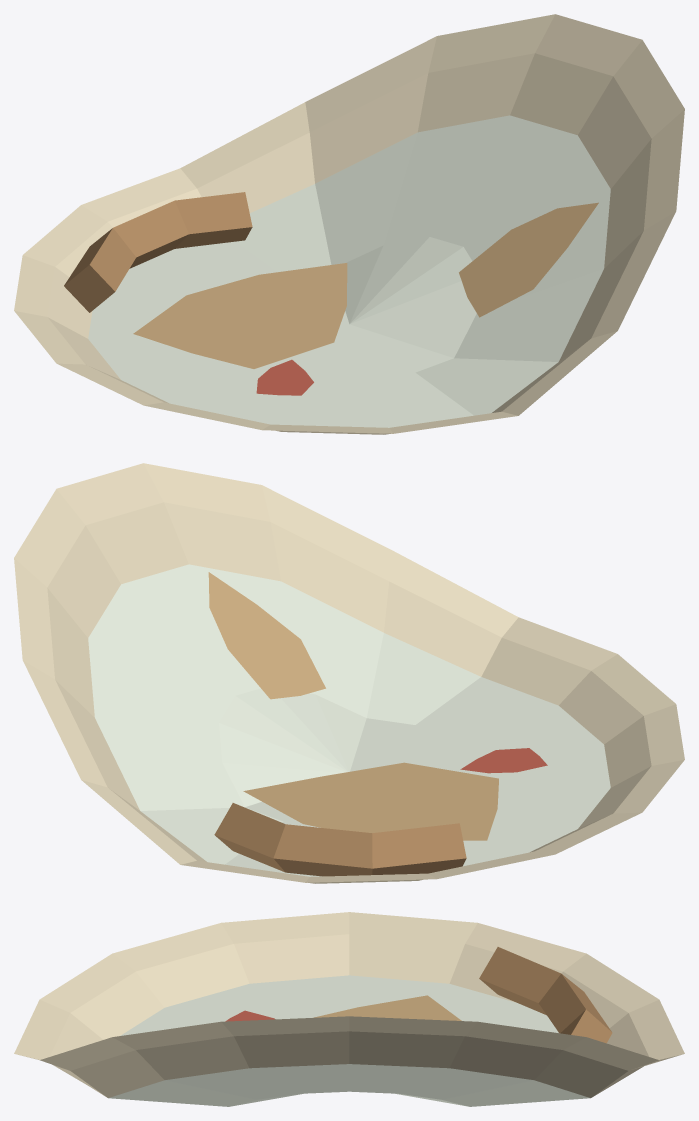
Rendered from lwf_litter_pizza_plate_v1.glb.
3 views of the same model, one above another, from view 1: azimuth 30°, elevation 25°; view 2: azimuth 150°, elevation 25°; view 3: azimuth 270°, elevation 25° (orthographic).
Visible parts, largest first — view 1: LWF_Litter_Pizza_Plate_V1; view 2: LWF_Litter_Pizza_Plate_V1; view 3: LWF_Litter_Pizza_Plate_V1.
Boxes of the visible parts, x1,y1,x2,y2 form: LWF_Litter_Pizza_Plate_V1: (14, 14, 684, 434); LWF_Litter_Pizza_Plate_V1: (14, 463, 684, 883); LWF_Litter_Pizza_Plate_V1: (14, 912, 684, 1106).
Bounding box in the file's own units: 0.19 × 0.066 × 0.19.
Materials: 1 (1 with a texture image).
